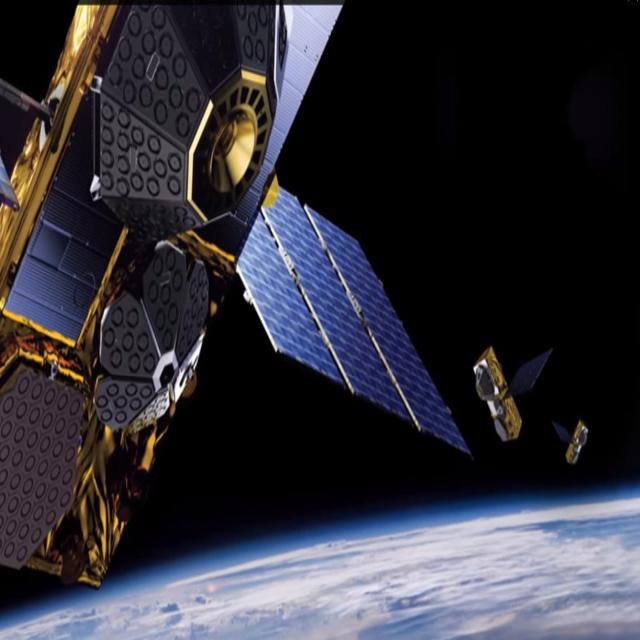medium_debris: (0, 0, 469, 590), (456, 343, 540, 466), (560, 411, 602, 474)
